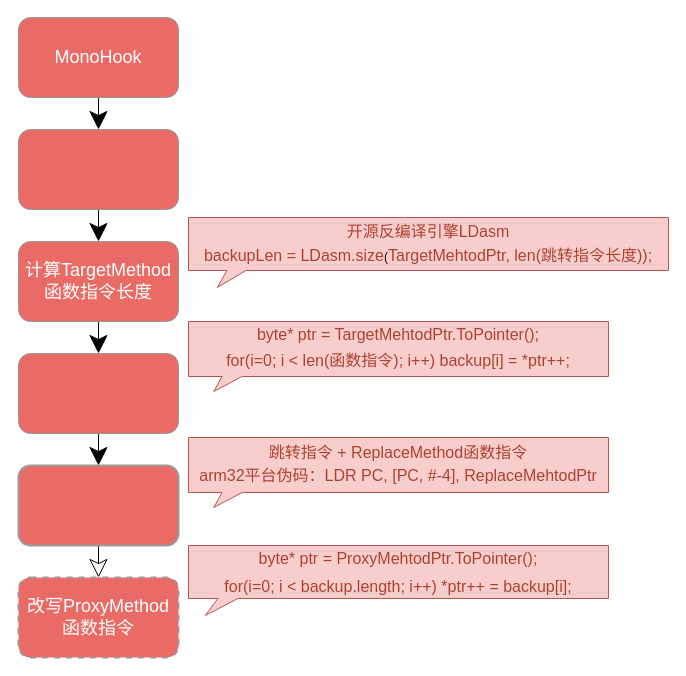
Image size: 686x676. Some labels were removed from this diagram. Each missing label, with the centre of its shape:
"备份TargetMethod函数指令" belongs at point (98, 393).
"改写TargetMethod函数指令" belongs at point (98, 505).
"获取 TargetMethod 函数地址" belongs at point (98, 169).
